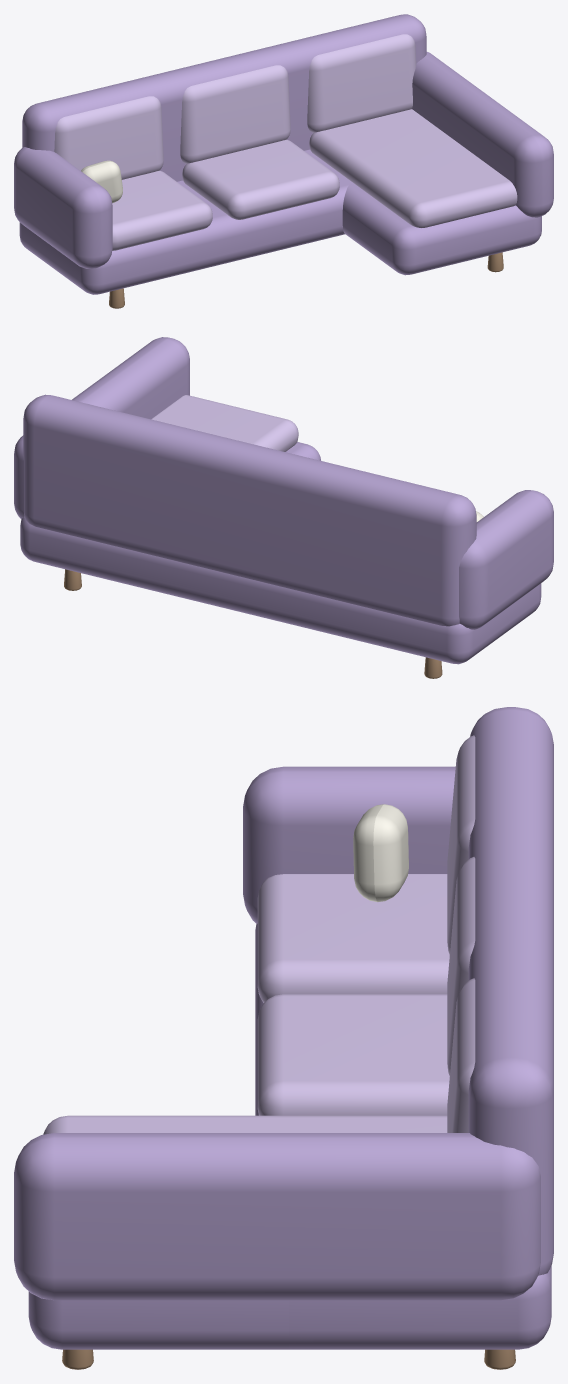
Rendered from sofa_corner.glb.
3 views of the same model, one above another, from view 1: azimuth 30°, elevation 25°; view 2: azimuth 150°, elevation 25°; view 3: azimuth 270°, elevation 25° (orthographic). The views are drawn at different scales.
Visible parts, largest first — view 1: Continuous chaise cushion, Long corner back, Long corner base, Corner side armrest, Corner return, Round armrest, Corner back cushion.001, Corner seat cushion.001, Corner back cushion.002, Corner back cushion, Corner seat cushion, Corner accent pillow; view 2: Long corner back, Long corner base, Round armrest, Corner side armrest, Continuous chaise cushion; view 3: Corner side armrest, Long corner back, Corner seat cushion.001, Corner seat cushion, Round armrest, Long corner base, Corner return, Continuous chaise cushion, Corner accent pillow, Corner back cushion, Corner back cushion.001, Corner back cushion.002.
Part boxes in pixels (box(x1,y1,x2,y2)): Continuous chaise cushion: box(309, 109, 517, 227); Long corner back: box(22, 14, 426, 181); Long corner base: box(19, 149, 353, 294); Corner side armrest: box(412, 52, 553, 217); Corner return: box(342, 183, 541, 275); Round armrest: box(14, 147, 112, 268); Corner back cushion.001: box(180, 65, 290, 163); Corner seat cushion.001: box(182, 139, 339, 219); Corner back cushion.002: box(307, 34, 416, 132); Corner back cushion: box(54, 96, 163, 179); Corner seat cushion: box(112, 170, 212, 250); Corner accent pillow: box(81, 160, 122, 202); Long corner back: box(23, 394, 476, 626); Long corner base: box(20, 517, 541, 664); Round armrest: box(459, 490, 553, 629); Corner side armrest: box(14, 337, 189, 518); Continuous chaise cushion: box(151, 395, 298, 451); Corner side armrest: box(14, 1133, 540, 1300); Long corner back: box(468, 707, 553, 1275); Corner seat cushion.001: box(257, 994, 449, 1115); Corner seat cushion: box(257, 874, 449, 1002); Round armrest: box(243, 766, 455, 923); Long corner base: box(255, 923, 551, 1349); Corner return: box(28, 1291, 313, 1349); Continuous chaise cushion: box(43, 1115, 447, 1134); Corner accent pillow: box(353, 804, 408, 902); Corner back cushion: box(447, 735, 475, 954); Corner back cushion.001: box(447, 857, 475, 1076); Corner back cushion.002: box(447, 978, 475, 1132).
Bounding box in the file's own units: 4.24 × 1.6 × 2.4.
